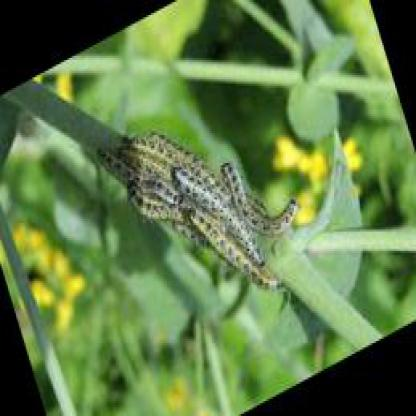pieris: (171, 165, 267, 268), (185, 206, 282, 294), (223, 160, 304, 238)
